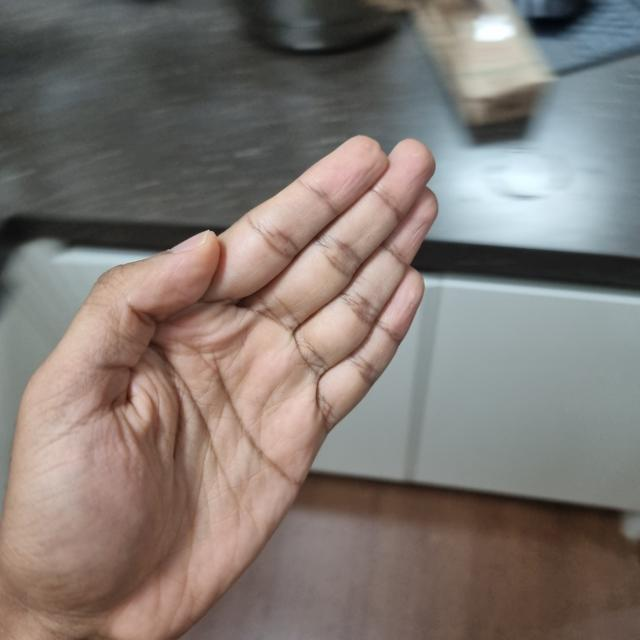Paper: (0, 137, 435, 637)
